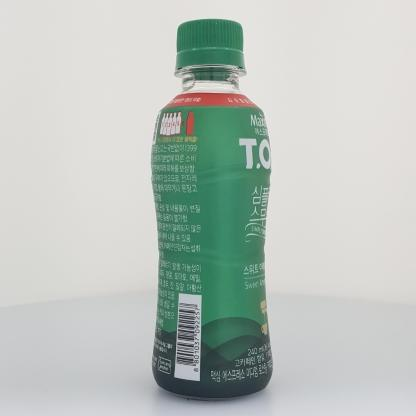--TOP--------------240ML: (151, 19, 273, 401)
